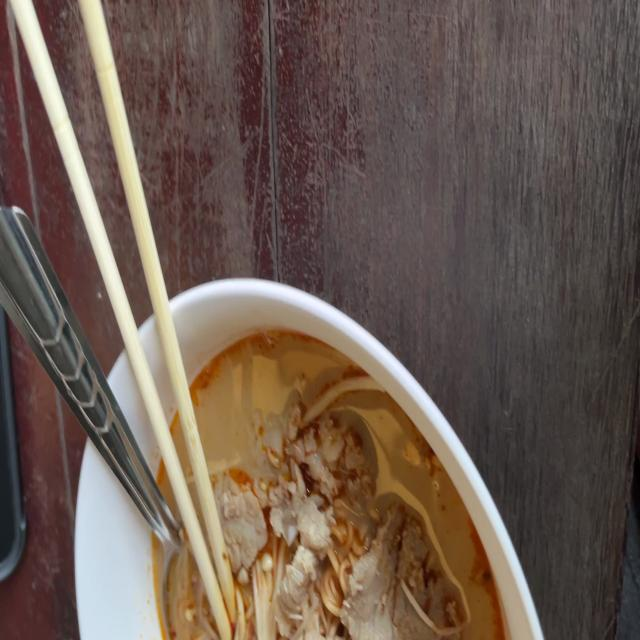noodle: (108, 319, 510, 640)
